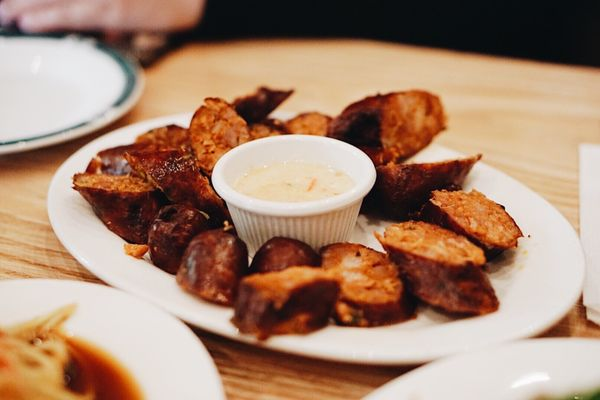pizza: (211, 132, 376, 265)
sushi: (212, 133, 376, 264)
